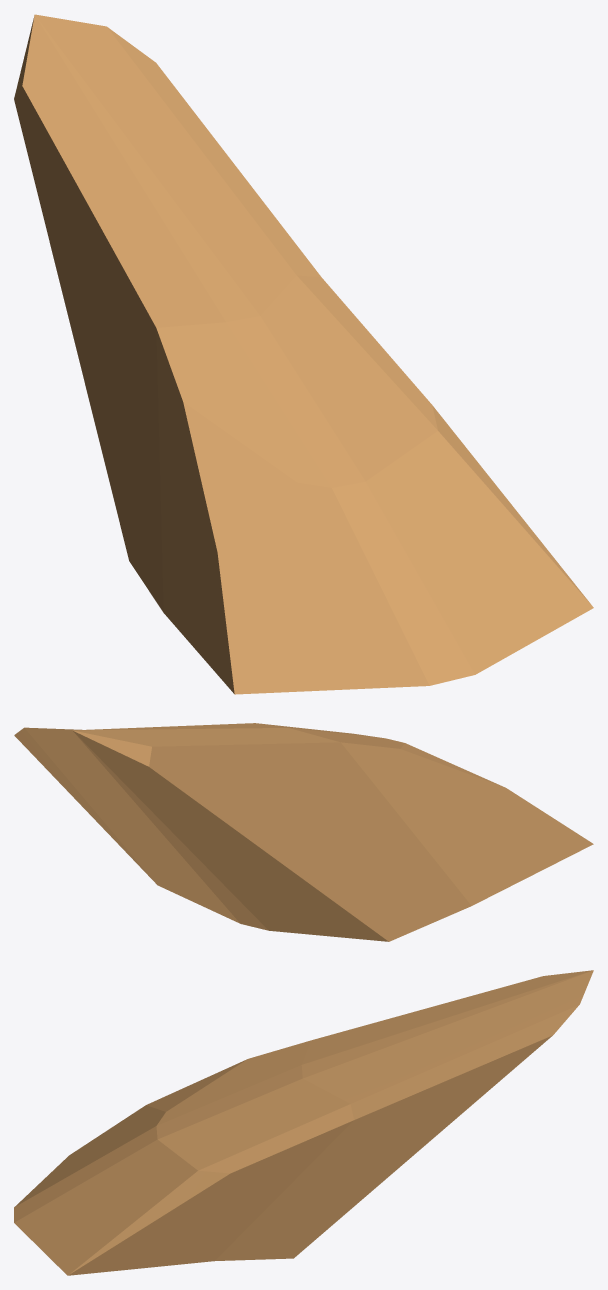
The model's file is decoration_stone_12.glb.
The picture shows the model from 3 angles, top to bottom: view 1: azimuth 30°, elevation 25°; view 2: azimuth 150°, elevation 25°; view 3: azimuth 270°, elevation 25°; orthographic projection. The views are drawn at different scales.
Parts seen in each view (by area): view 1: Plane.069; view 2: Plane.069; view 3: Plane.069.
Part boxes in pixels (x1=…): Plane.069: x1=14, y1=14, x2=593, y2=694; Plane.069: x1=14, y1=723, x2=593, y2=941; Plane.069: x1=14, y1=970, x2=593, y2=1275.
Size of the model in its own units: 12.55 by 11.96 by 25.55.
Materials: 1 (1 with a texture image).
